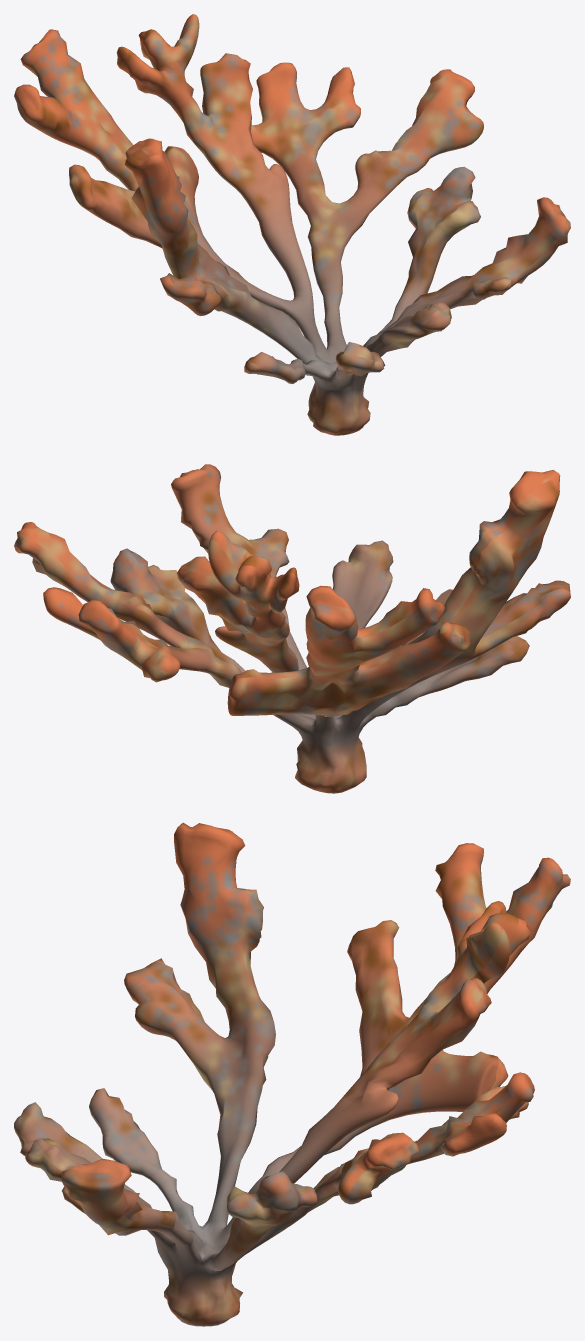
Rendered from coral elkhorn.FBX.
3 views of the same model, one above another, from view 1: azimuth 30°, elevation 25°; view 2: azimuth 150°, elevation 25°; view 3: azimuth 270°, elevation 25° (orthographic). The views are drawn at different scales.
Visible parts, largest first — view 1: coral elkhorn; view 2: coral elkhorn; view 3: coral elkhorn.
Boxes of the visible parts, x1,y1,x2,y2 form: coral elkhorn: (14,14,570,435); coral elkhorn: (14,464,570,793); coral elkhorn: (14,822,570,1326).
Size of the model in its own units: 66.85 by 66.01 by 51.
1 material, 1 textured.
